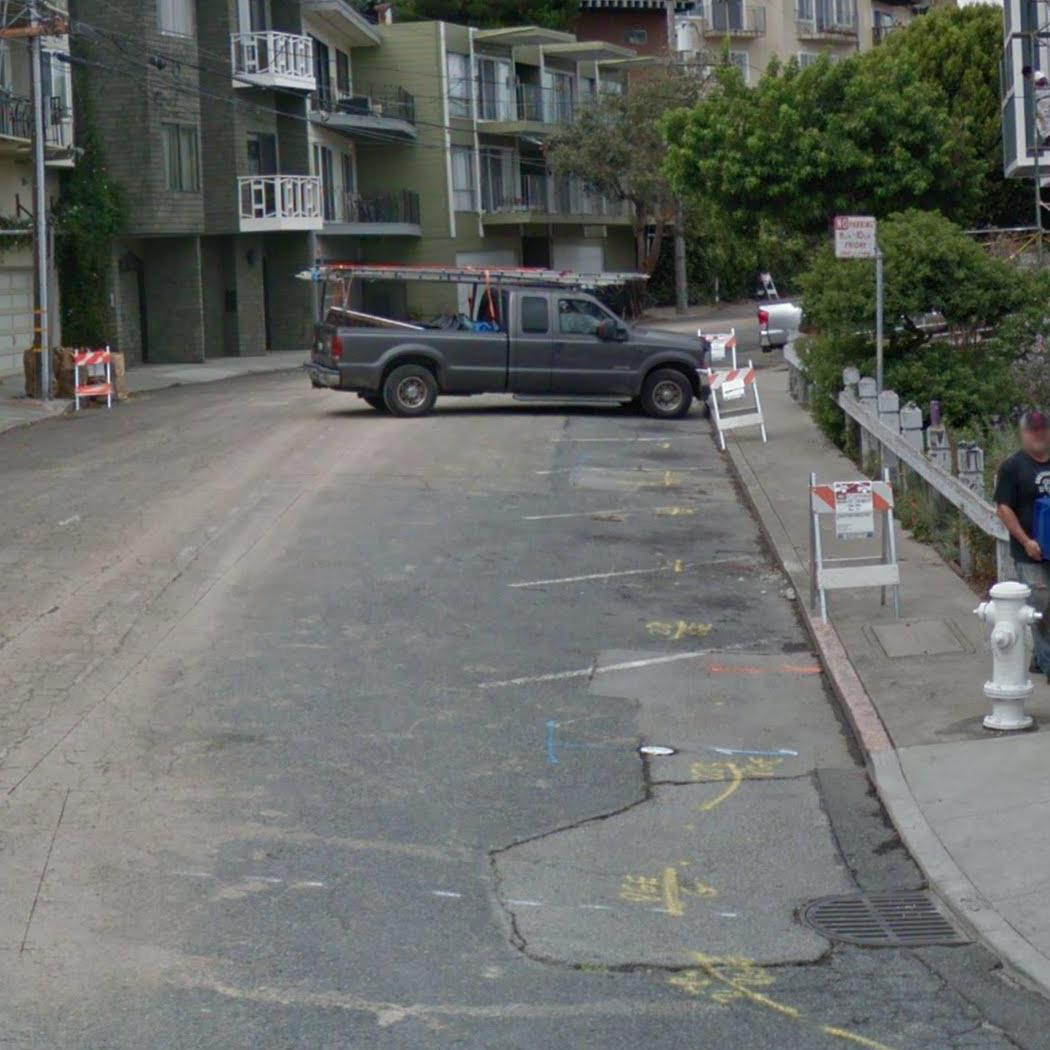No Parking: (830, 213, 881, 262)
